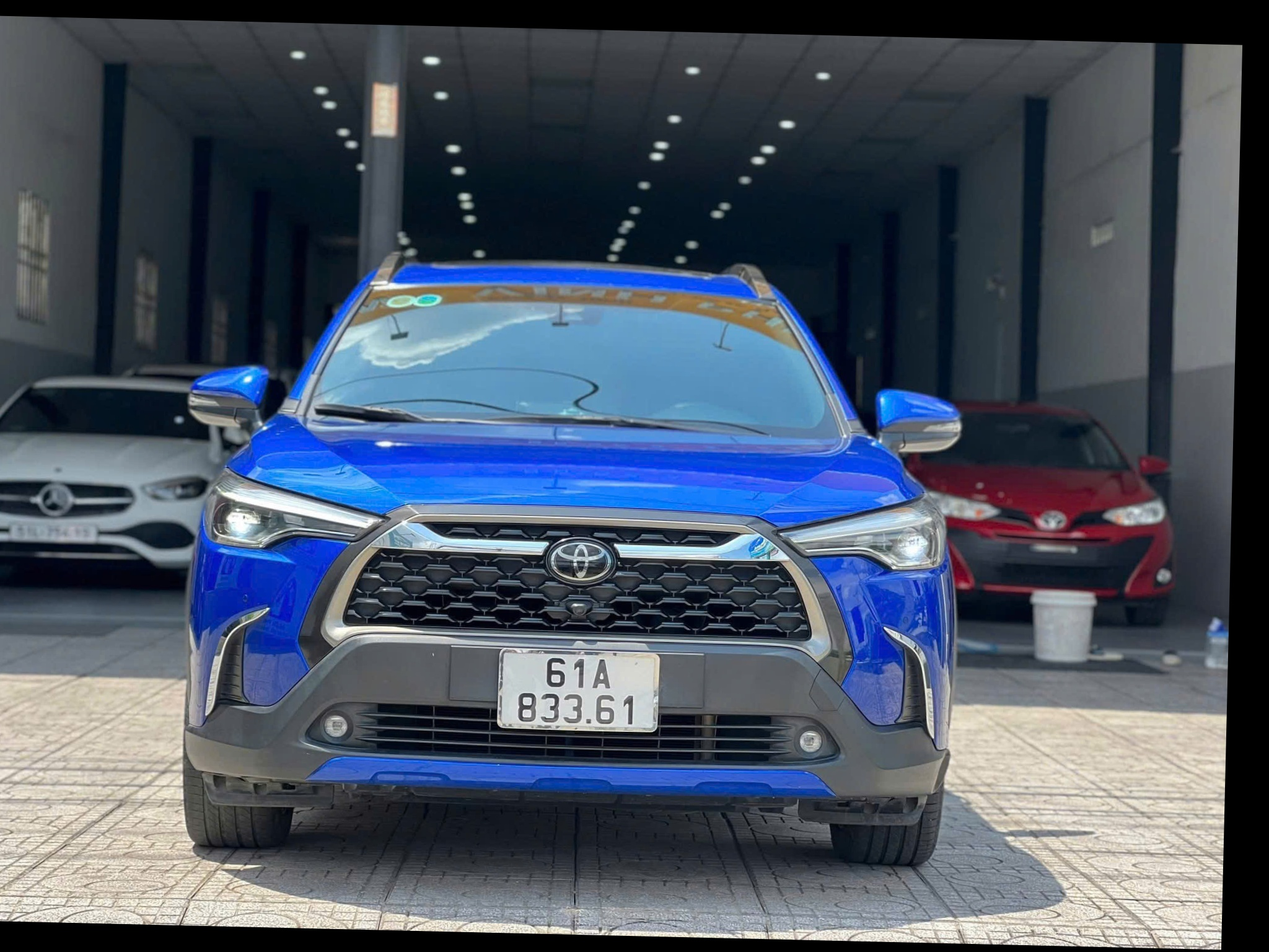Bien-so: (492, 640, 674, 743)
